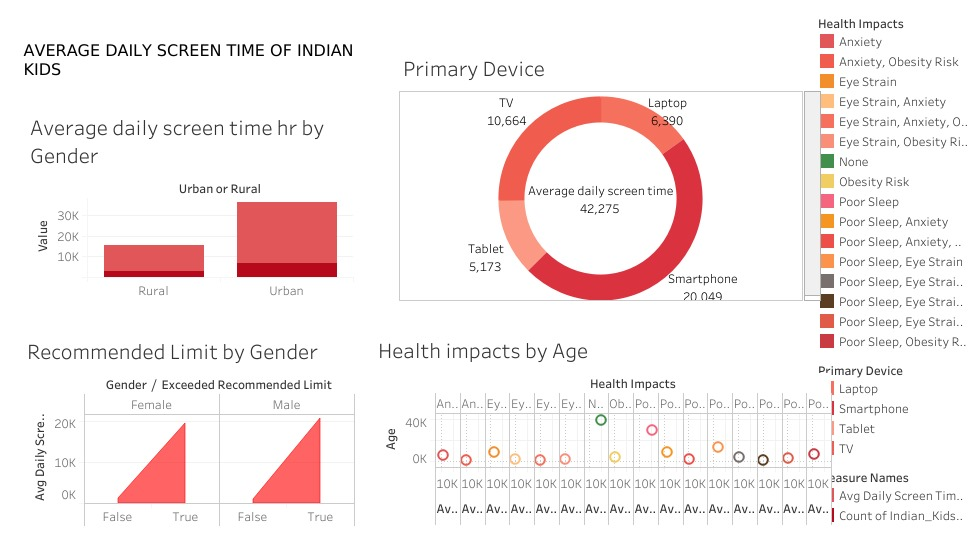

This screenshot's page, from the dashboard's own definition file:
{"tool":"tableau","page":{"name":"Dashboard 1","canvas":[1000,1000],"units":"permille","ordinal":0},"visuals":[{"type":"legend","title":"Sheet 1","param":"[federated.101dqlp1yzputn1a251j30nuw0nx].[none:Health_Impacts:nk]","box":[854.5,14.5,138.5,626.8]},{"type":"text","box":[21.7,61.6,355,97.8]},{"type":"worksheet","title":"Sheet 3","mark":"Pie","rows":["Calculation_494270093577863168","Calculation_494270093577863168"],"box":[406.9,88.8,430.3,471]},{"type":"worksheet","title":"Sheet 4","mark":"Automatic","cols":["Urban_or_Rural"],"box":[26.8,199.3,333.3,356.9]},{"type":"worksheet","title":"Sheet 1","mark":"Automatic","rows":["Age"],"cols":["Health_Impacts","Avg_Daily_Screen_Time_hr"],"box":[380.9,614.1,466.7,364.1]},{"type":"worksheet","title":"Sheet 2","mark":"Area","rows":["Avg_Daily_Screen_Time_hr"],"cols":["Gender","Exceeded_Recommended_Limit"],"box":[23.4,615.9,338.5,364.1]},{"type":"legend","title":"Sheet 3","param":"[federated.101dqlp1yzputn1a251j30nuw0nx].[none:Primary_Device:nk]","box":[854.5,641.3,138.5,192]},{"type":"legend","title":"Sheet 4","param":"[federated.101dqlp1yzputn1a251j30nuw0nx].[:Measure Names]","box":[854.5,833.3,138.5,119.6]}]}

Visuals, with their boxes on the dashboard's canvas, which has no fixed pixel size, in thousandths of its width and height (x1, y1, x2, y2). These are canvas units, not pixel positions in the 980x536 screenshot, which may show the page scaled, cropped or inside an application window:
"Sheet 1" legend: {"x1": 854, "y1": 14, "x2": 993, "y2": 641}
text: {"x1": 22, "y1": 62, "x2": 377, "y2": 159}
"Sheet 3" worksheet (Pie marks): {"x1": 407, "y1": 89, "x2": 837, "y2": 560}
"Sheet 4" worksheet: {"x1": 27, "y1": 199, "x2": 360, "y2": 556}
"Sheet 1" worksheet: {"x1": 381, "y1": 614, "x2": 848, "y2": 978}
"Sheet 2" worksheet (Area marks): {"x1": 23, "y1": 616, "x2": 362, "y2": 980}
"Sheet 3" legend: {"x1": 854, "y1": 641, "x2": 993, "y2": 833}
"Sheet 4" legend: {"x1": 854, "y1": 833, "x2": 993, "y2": 953}
